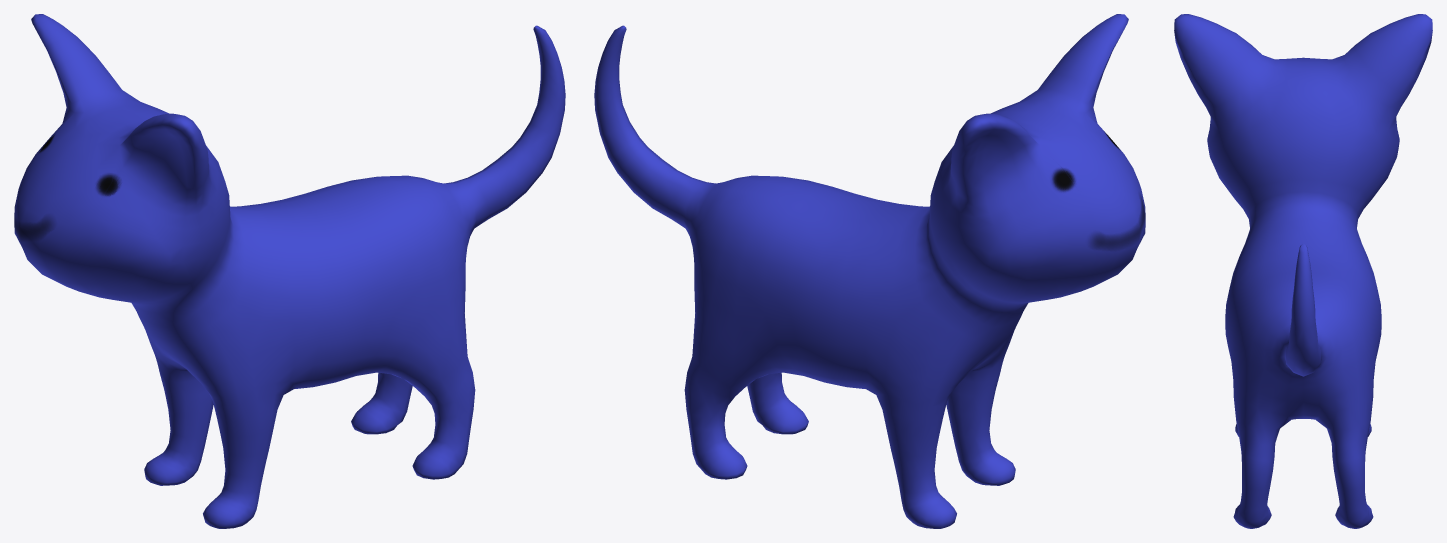
File: cat.glb
3 renders of one model, left to right at view 1: azimuth 30°, elevation 25°; view 2: azimuth 150°, elevation 25°; view 3: azimuth 270°, elevation 25°, orthographic. The views are drawn at different scales.
Parts seen in each view (by area): view 1: mesh_id29; view 2: mesh_id29; view 3: mesh_id29.
Part boxes in pixels (x1=…): mesh_id29: x1=14, y1=14, x2=565, y2=528; mesh_id29: x1=594, y1=14, x2=1145, y2=528; mesh_id29: x1=1174, y1=14, x2=1432, y2=528.
Size of the model in its own units: 0.2629 by 0.2106 by 0.1283.
Materials: 1 (1 with a texture image).
